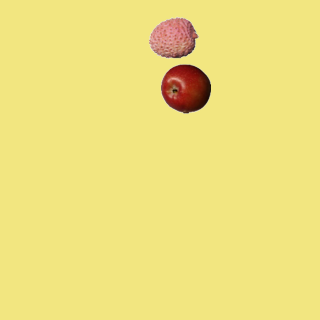Apple Braeburn: (160, 63, 210, 113)
Lychee: (148, 12, 198, 62)
